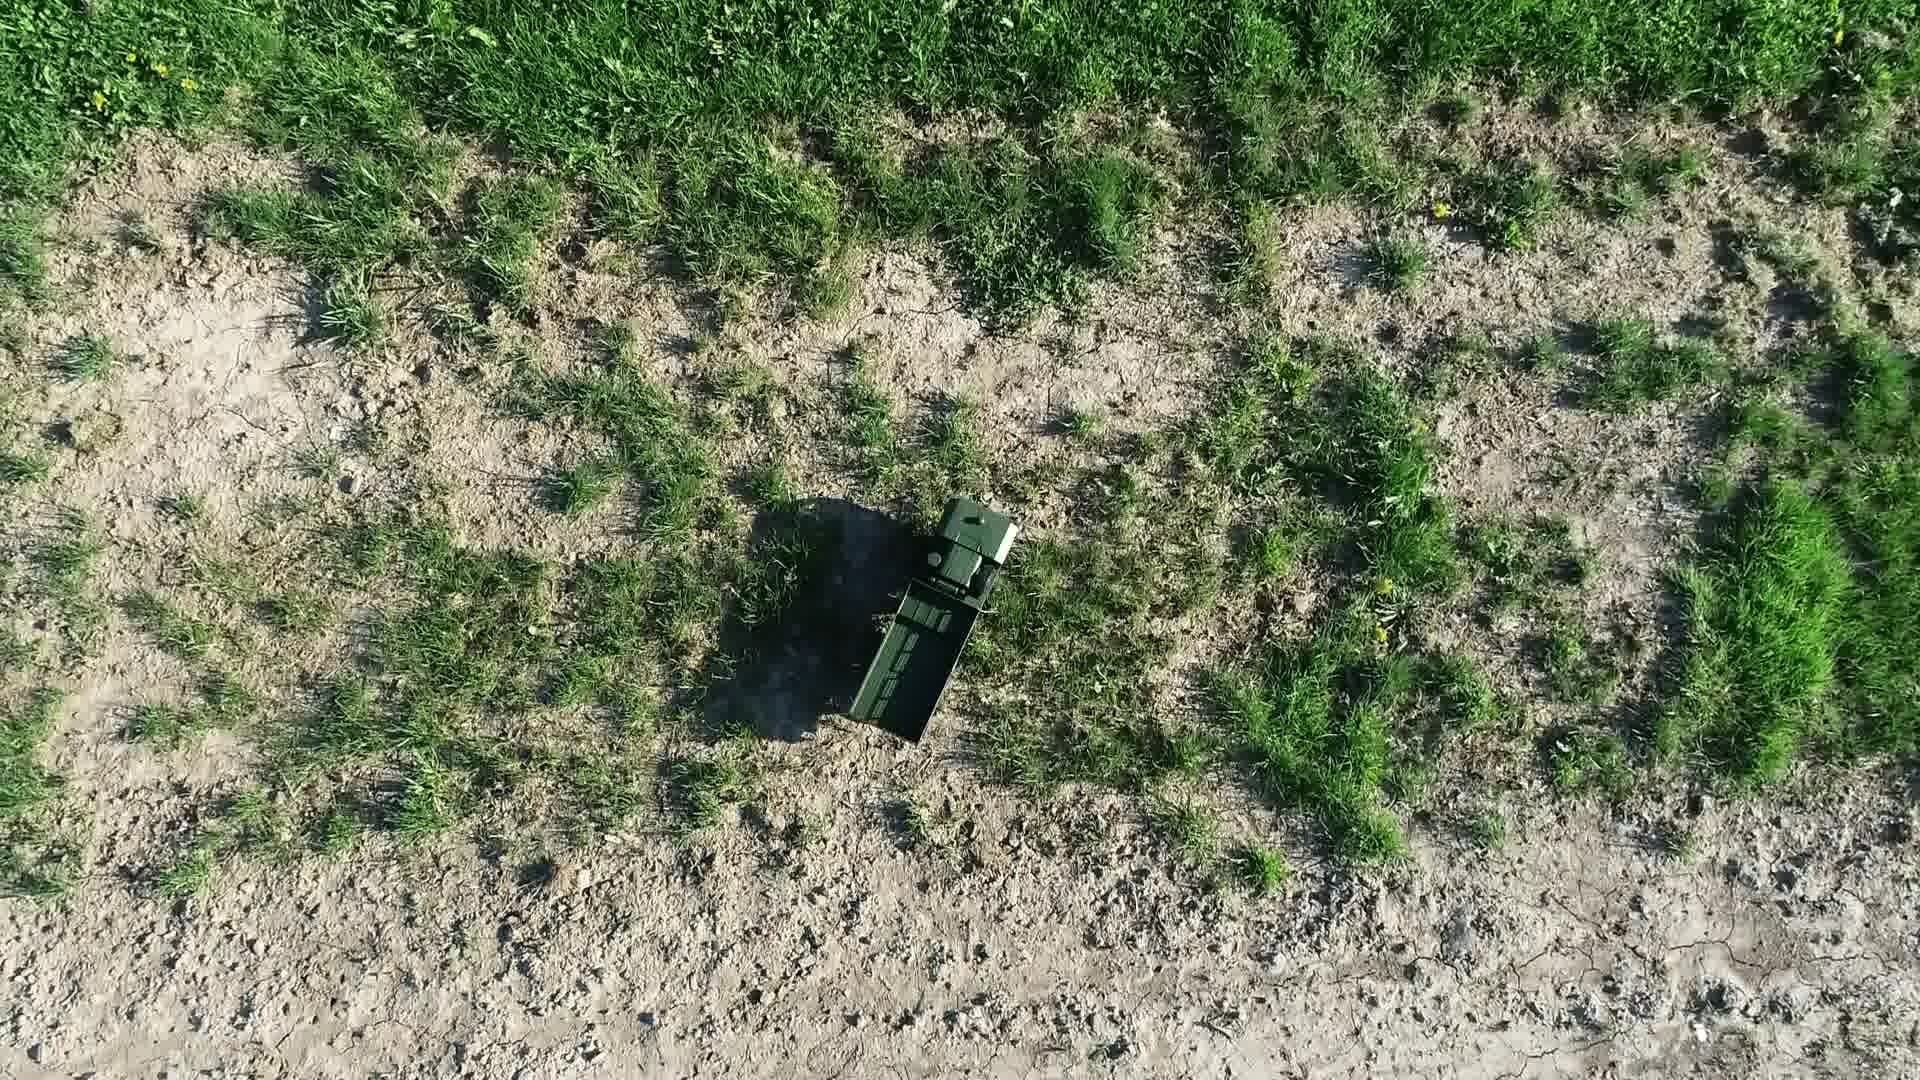transporter9: (816, 484, 1031, 764)
